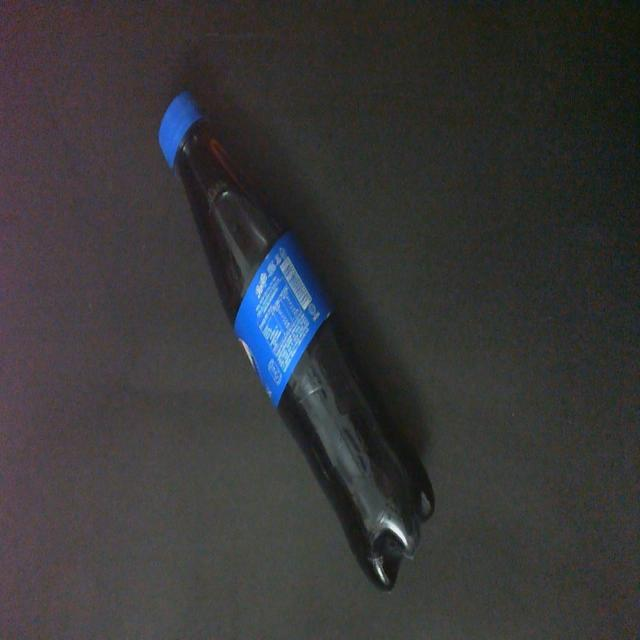non-defect: (156, 87, 438, 596)
